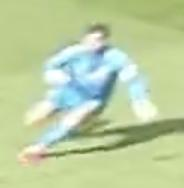goalkeeper: (6, 11, 168, 169)
